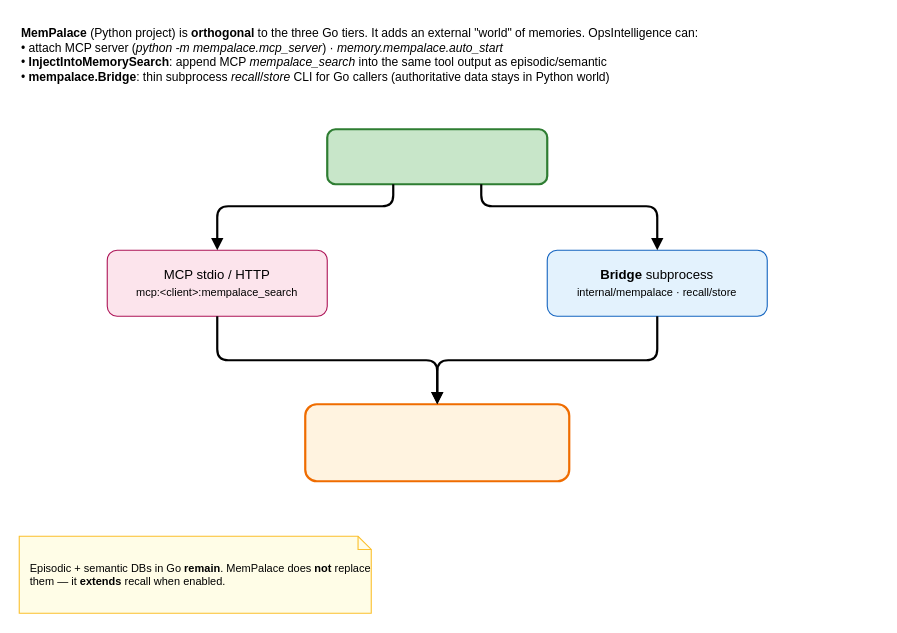
This 897x633 diagram has some shape labels left out. The shapes that lost their labels are listed below. From the top down, each one's box as (x1, y1, x2, y2) in pixels, then its label:
(326, 128, 548, 185): OpsIntelligence (Go)
(304, 403, 570, 482): MemPalace Python separate world dir under state_dir
